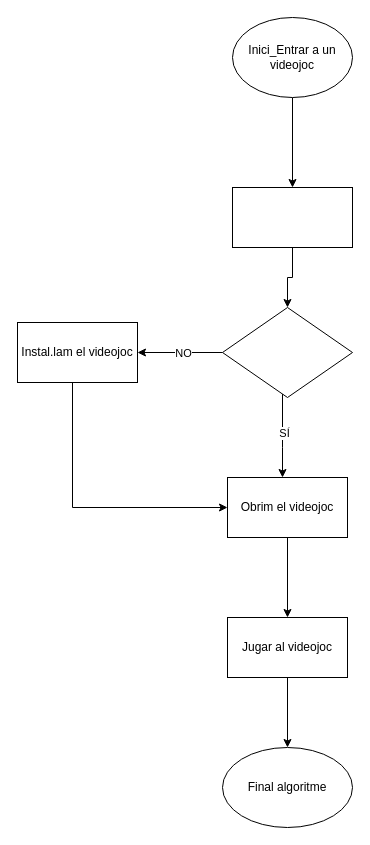
Some shapes in this 370 by 845 pixel diagram are drawn without their labels. The shapes that lost their labels are listed below. From the top down, each one's box as (x1, y1, x2, y2) in pixels, then its label:
(232, 186, 352, 248): Obrim l'aparell elèctrònic on jugarem a n'aquest joc
(222, 306, 352, 398): Està instal.lat el videojoc?
